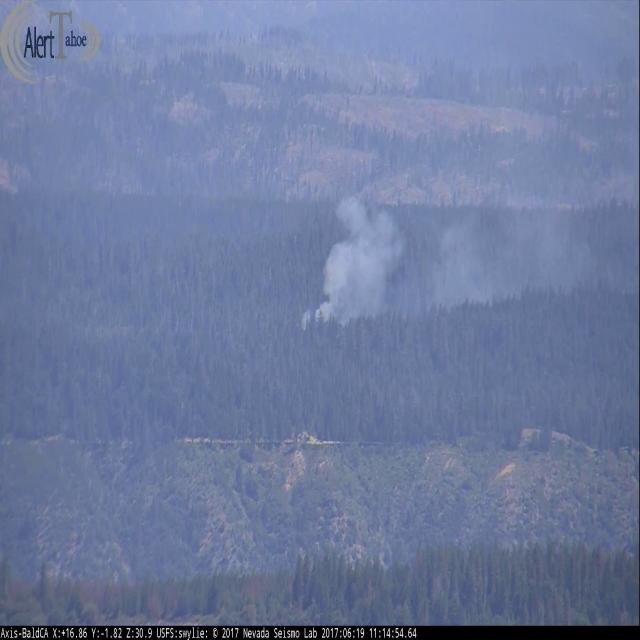smoke: (294, 123, 620, 339)
